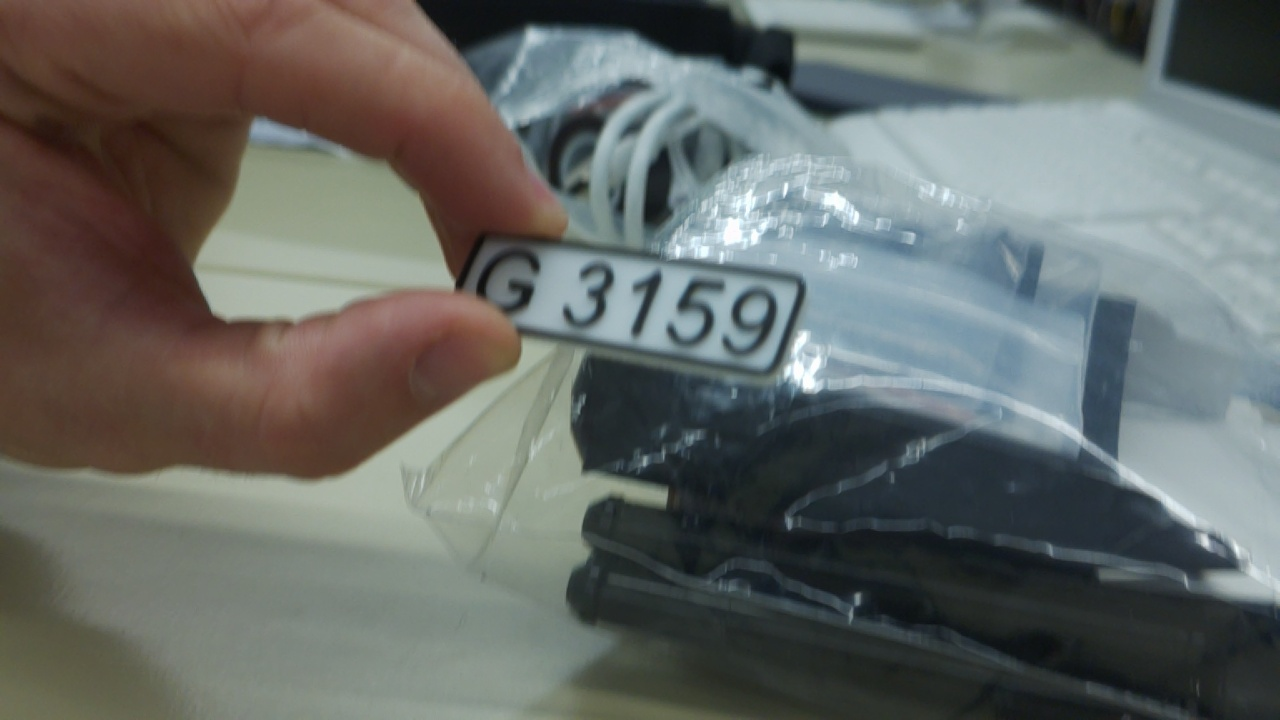license_plate: (441, 224, 813, 389)
